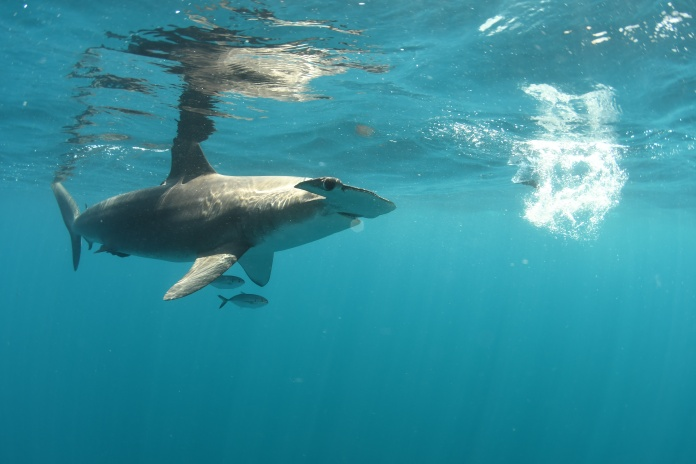Hammer: (17, 106, 441, 335)
